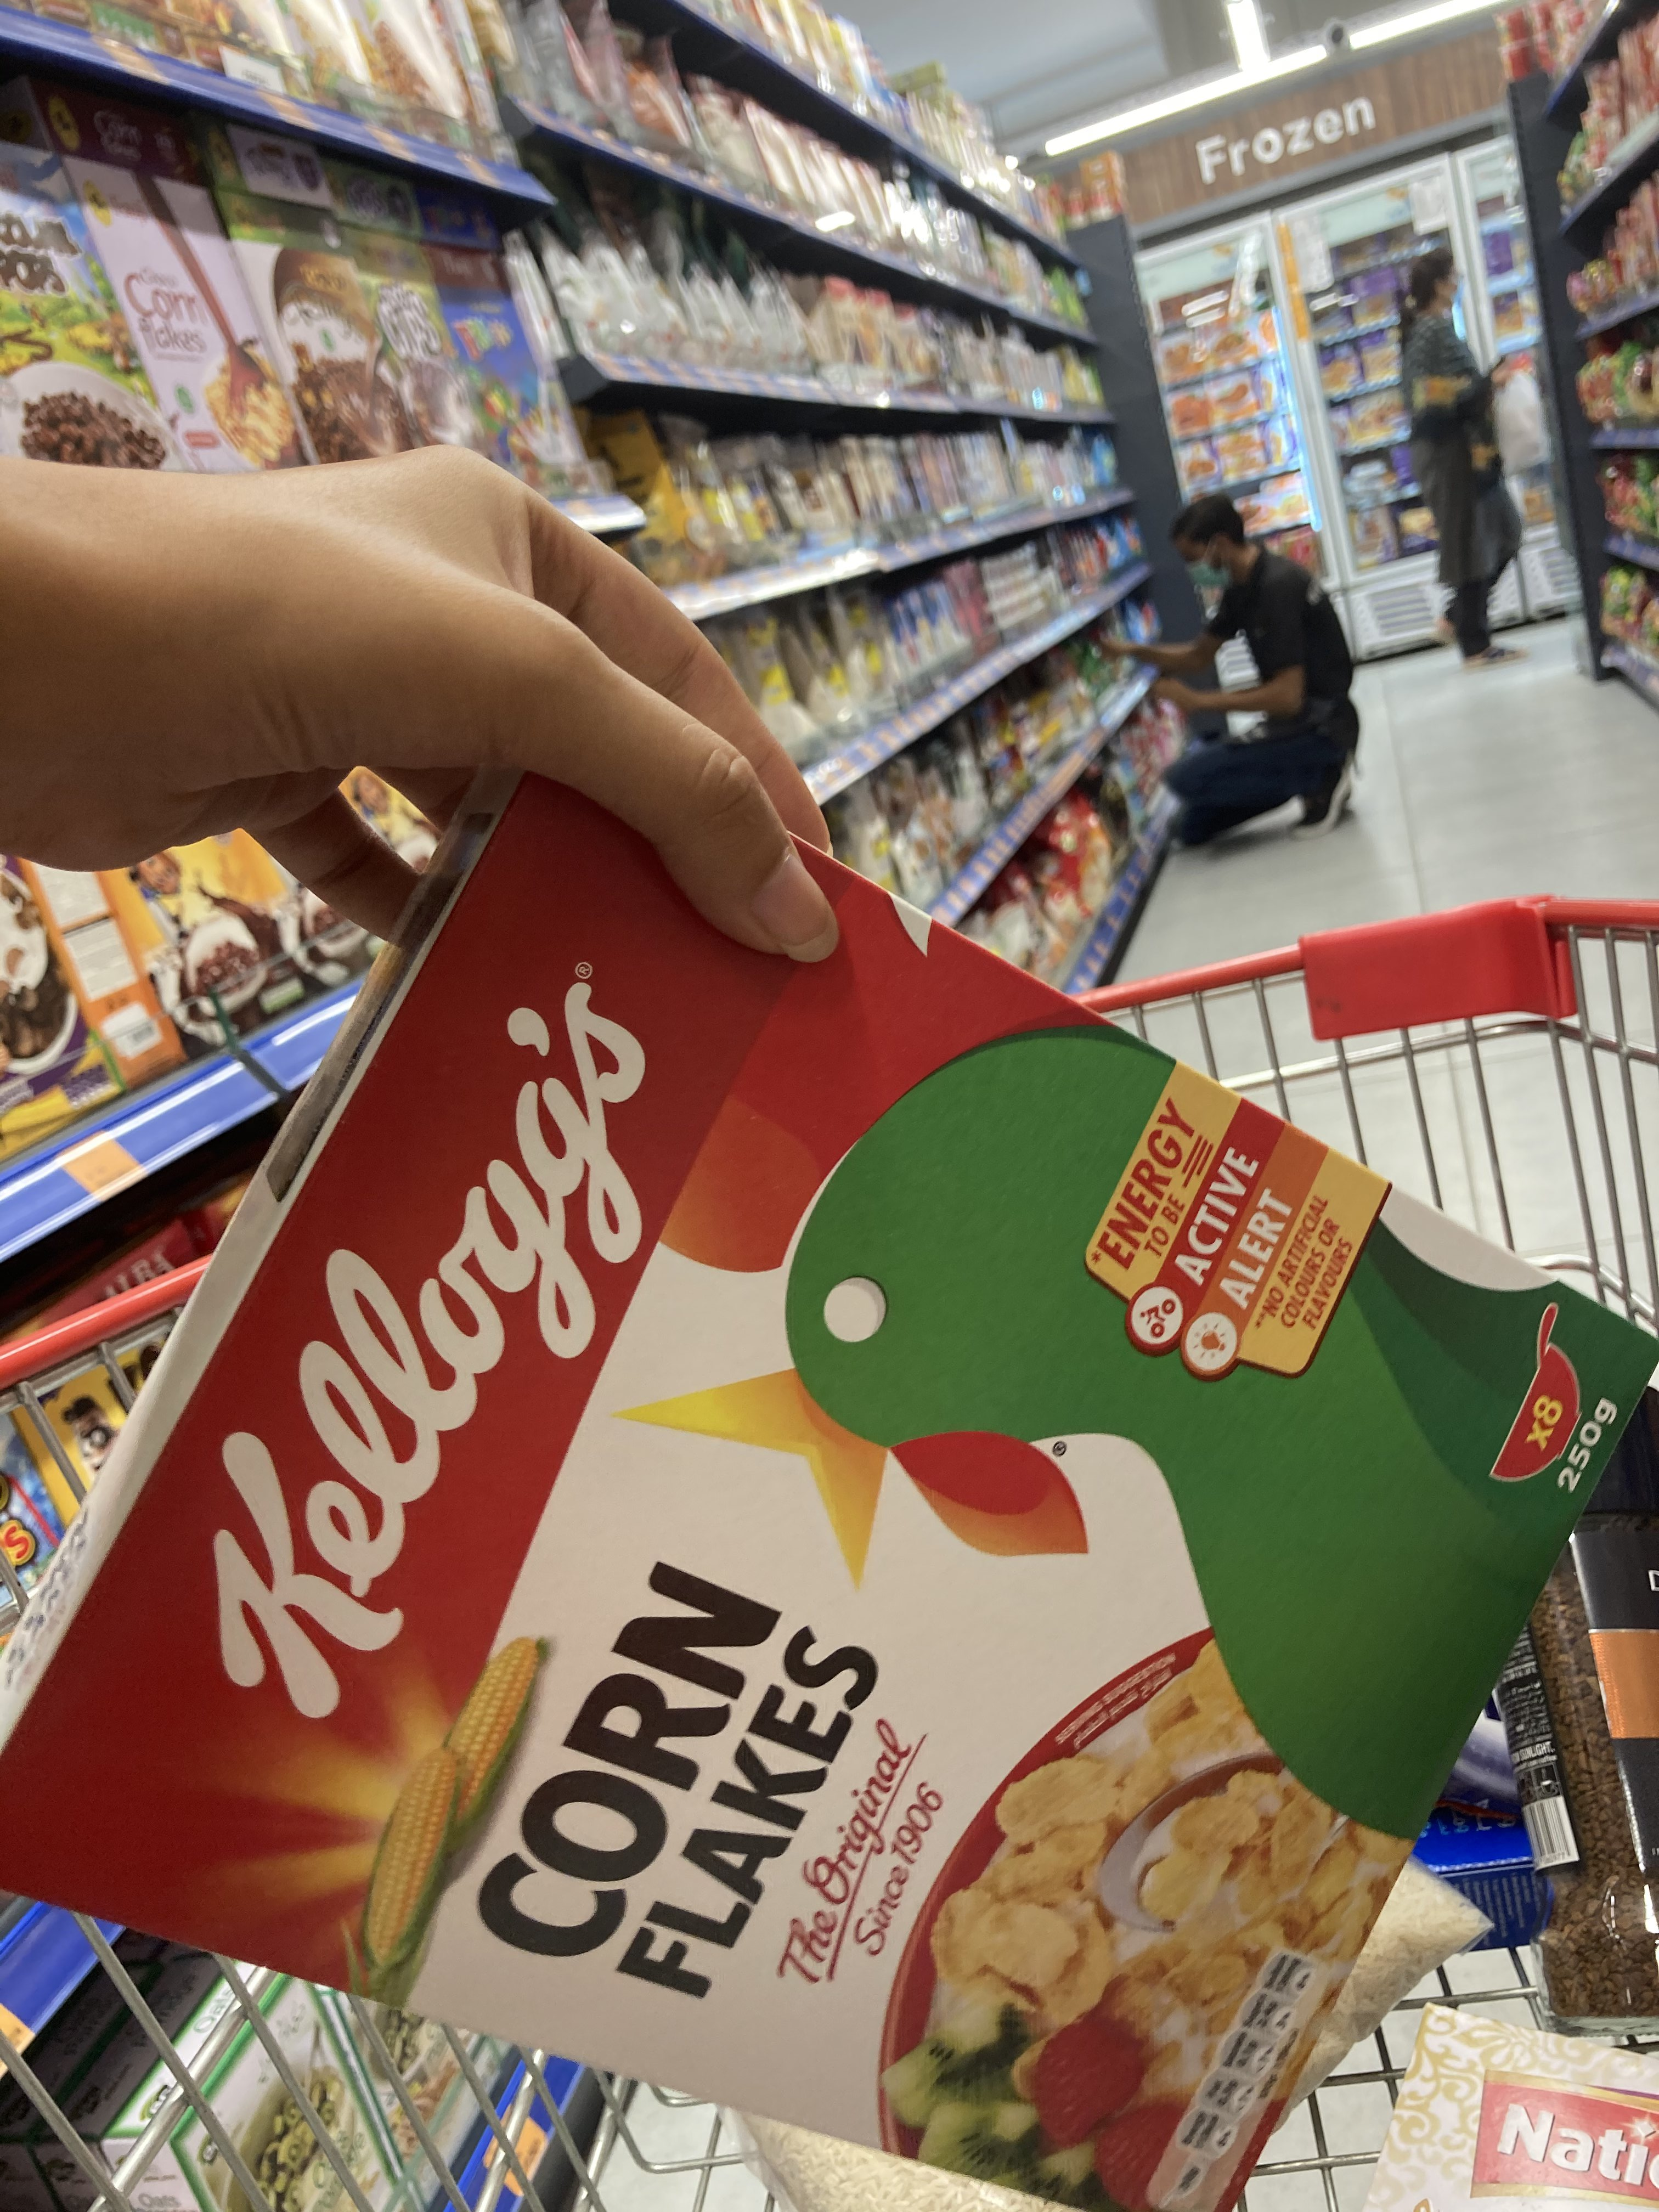Kellogg's Corn Flakes: (24, 742, 1659, 2212)
